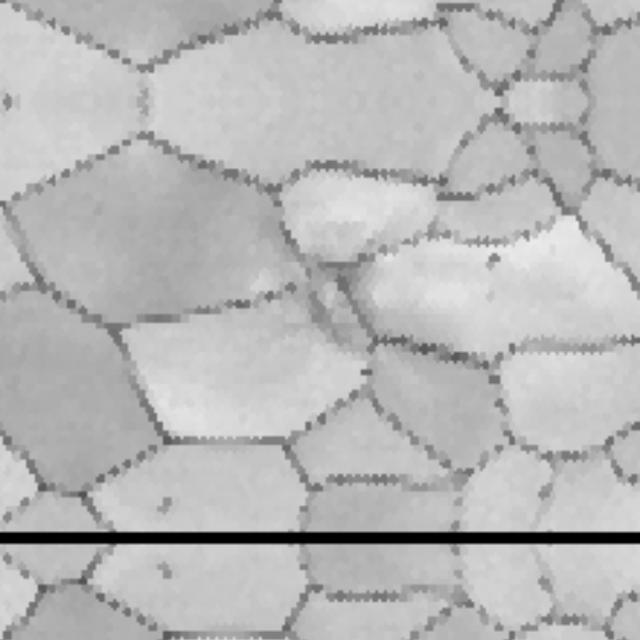good_void: (262, 213, 405, 366), (155, 490, 175, 517), (155, 558, 175, 584), (483, 249, 503, 273)
